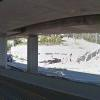Bridge: (10, 7, 97, 57)
